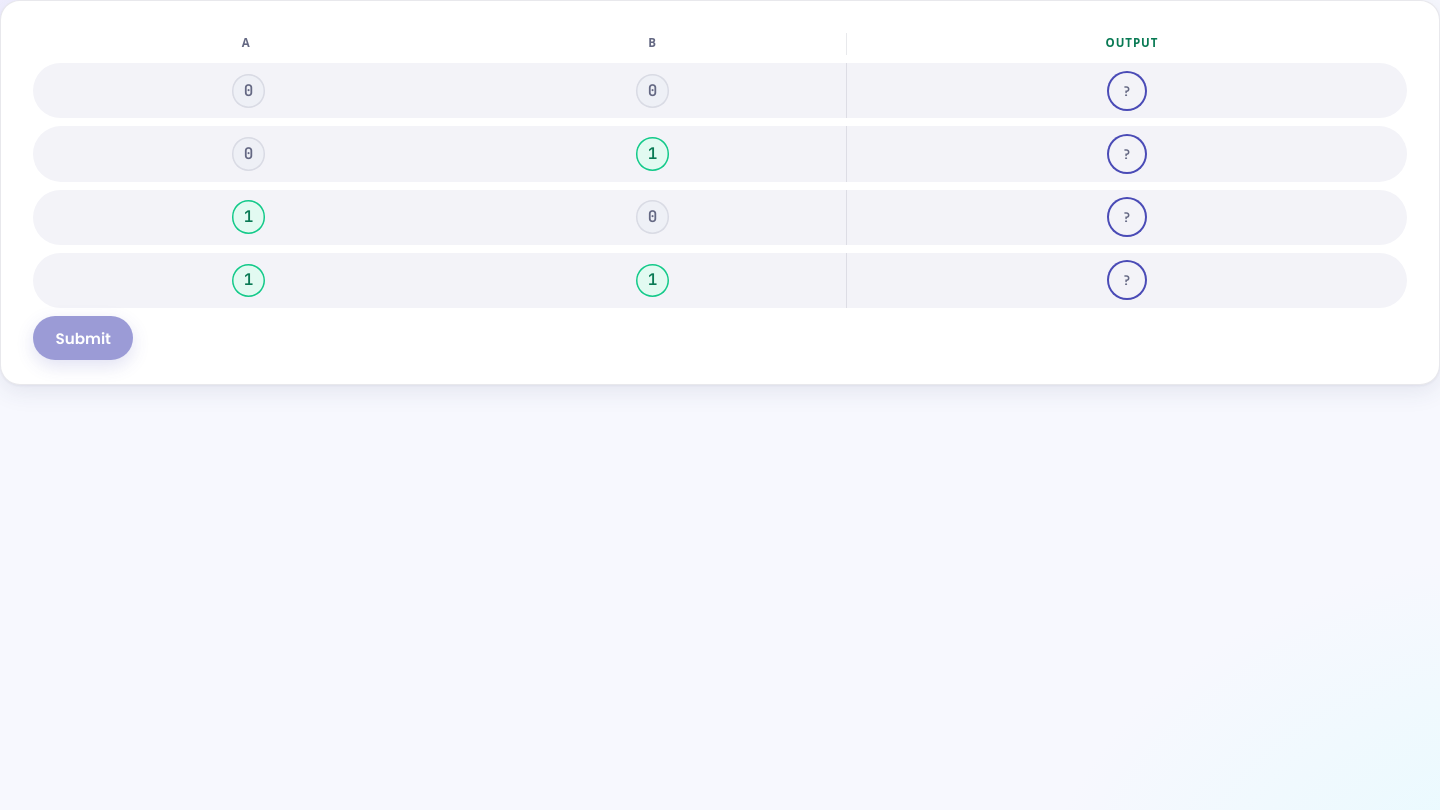
Test case: TruthTable submit gating (Chunk 1) › Submit is disabled until every cell is set (no "?" remaining)
This screenshot has width=1440, height=810.
Check: the button "Submit" is disabled, box [33,316,133,360]
Step 1. Click the 1st button "?" → x=1127, y=91, box [1105,69,1149,113]
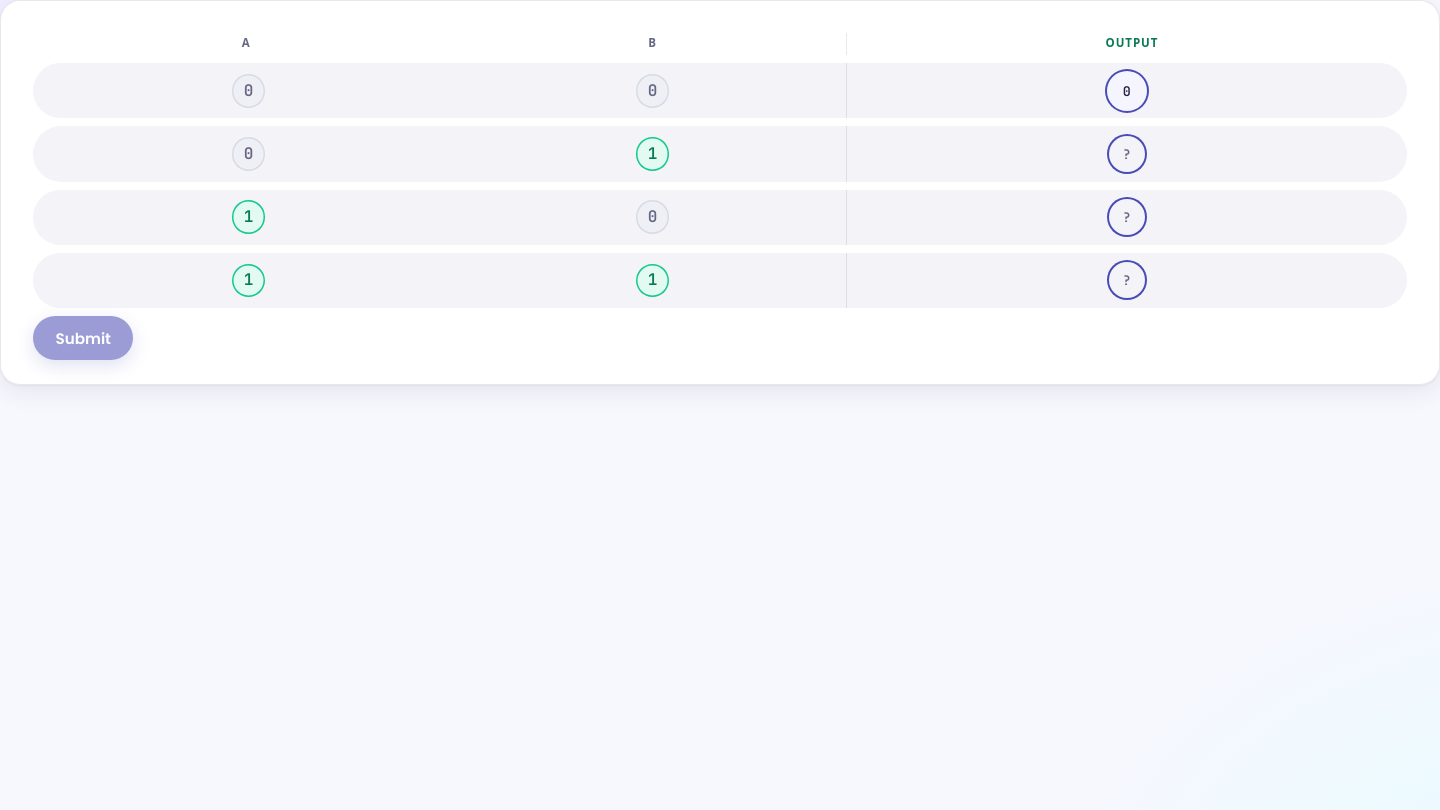
Step 2. Click the 1st button "?" → x=1127, y=154, box [1105,132,1149,176]
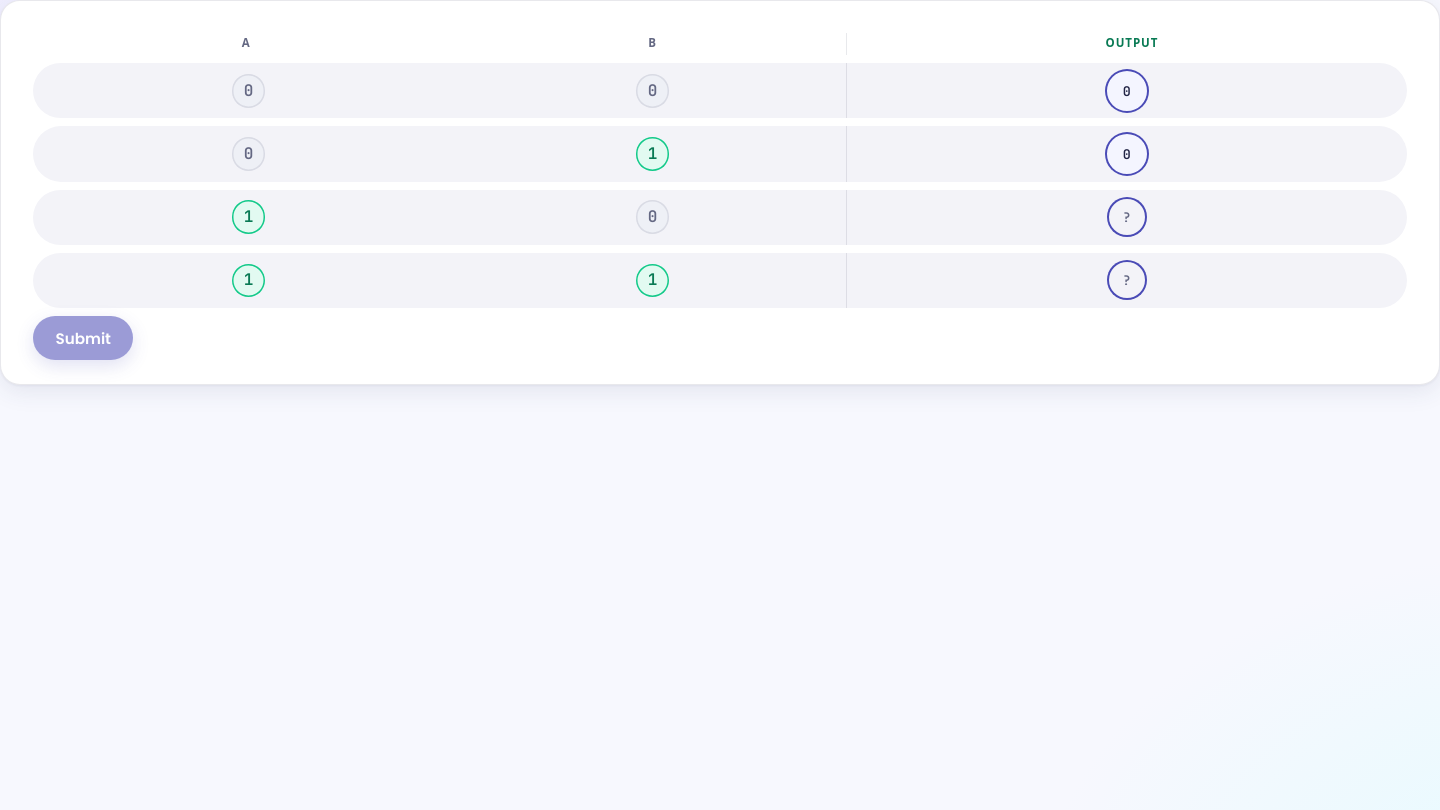
Step 3. Click the 1st button "?" → x=1127, y=217, box [1105,195,1149,239]
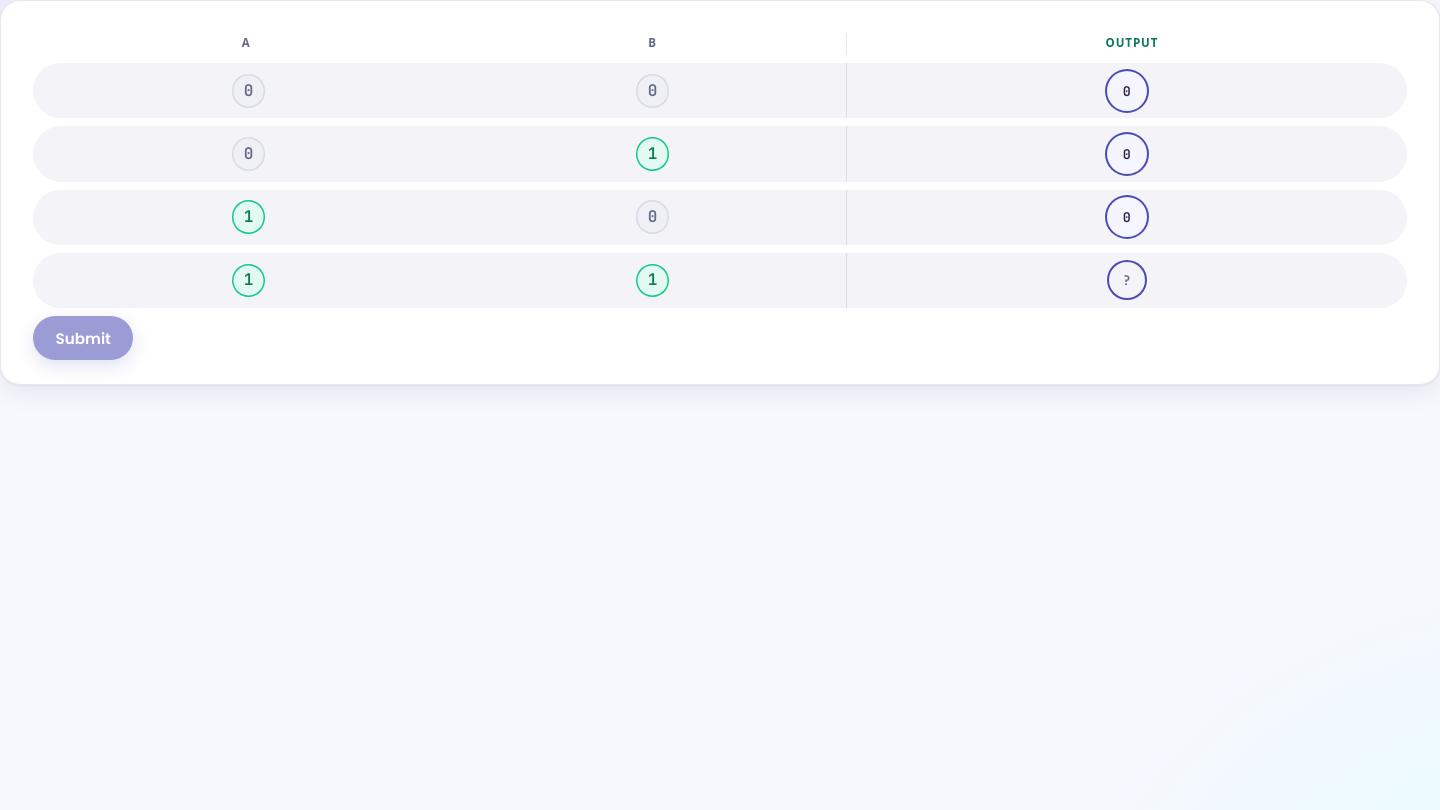
Check: the button "Submit" is disabled, box [33,316,133,360]
Step 4. Click the button "?" → x=1127, y=280, box [1105,258,1149,302]
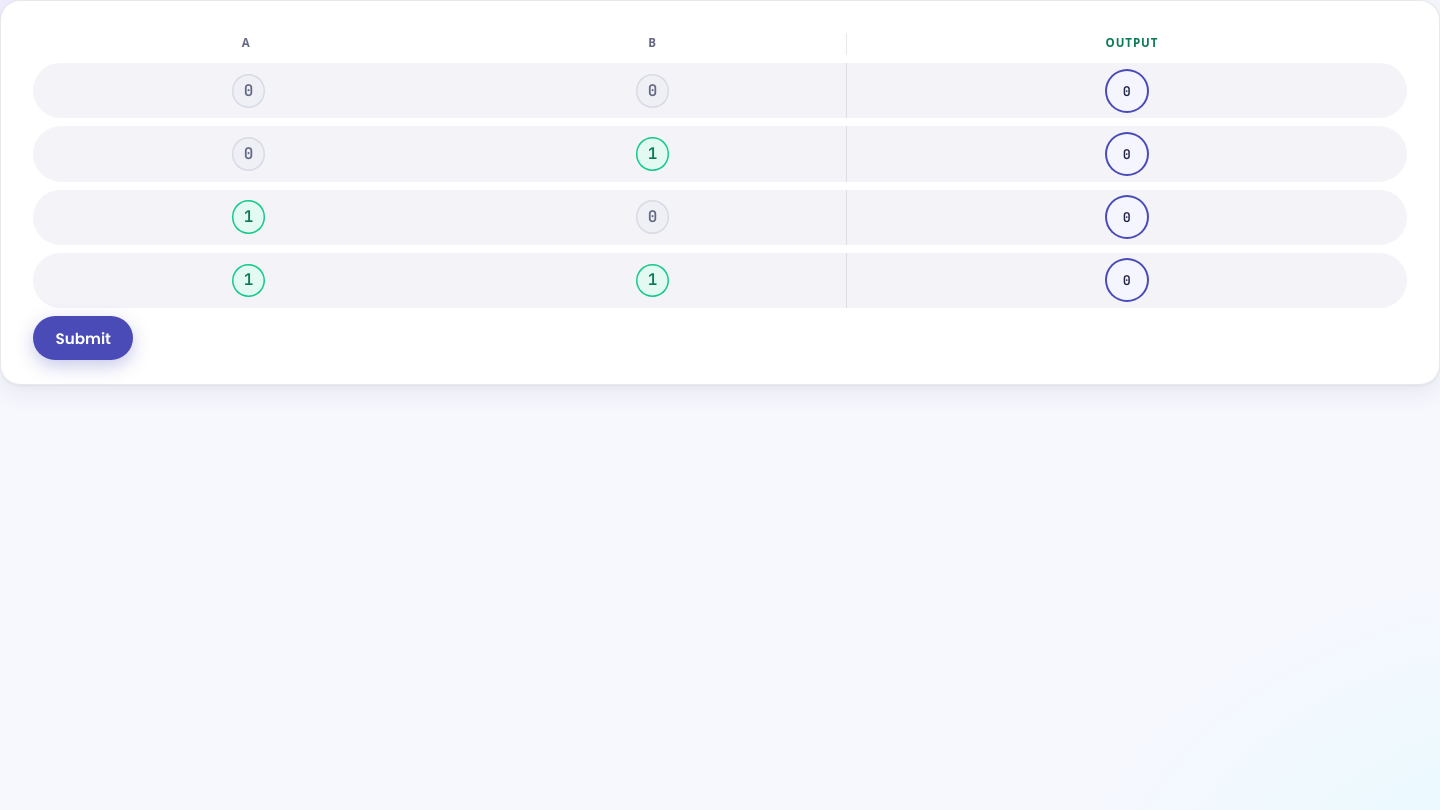
Check: the button "Submit" is enabled, box [33,316,133,360]
